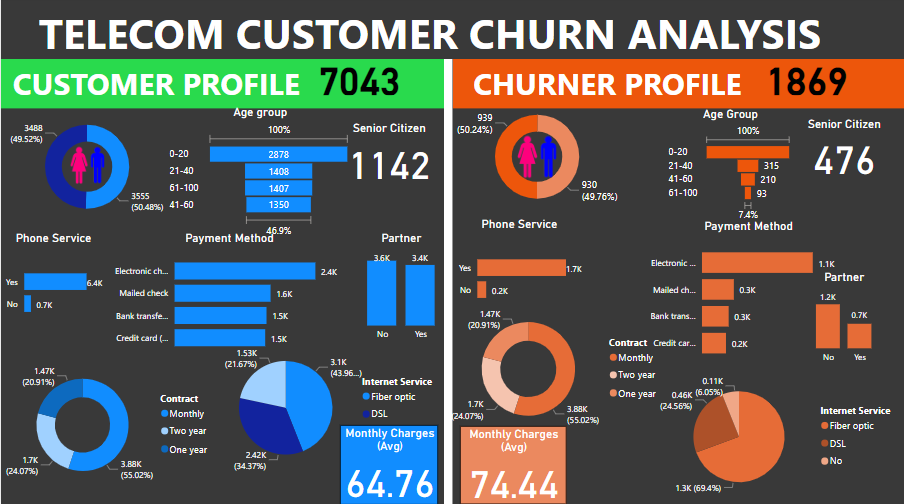

This screenshot's page, from the dashboard's own definition file:
{"tool":"powerbi","page":{"name":"Summary","canvas":[1280,720],"ordinal":0},"visuals":[{"type":"donutChart","fields":{"Category":["01 Churn-Dataset.gender"],"Y":["CountNonNull(01 Churn-Dataset.gender)"]},"box":[0,154.2,243.7,172.4],"z":0},{"type":"textbox","box":[0,5,1238.5,94.5],"z":1000},{"type":"textbox","box":[0,87.9,630.1,69.6],"z":2000},{"type":"textbox","box":[640,87.9,640,69.6],"z":3000},{"type":"card","fields":{"Values":["CountNonNull(01 Churn-Dataset.Churn)"]},"box":[428,82.2,160.2,62.4],"z":4000},{"type":"card","fields":{"Values":["CountNonNull(01 Churn-Dataset.Churn)"]},"box":[1061.6,82.2,160.2,62.4],"z":5000},{"type":"donutChart","fields":{"Category":["01 Churn-Dataset.gender"],"Y":["CountNonNull(01 Churn-Dataset.gender)"]},"box":[638.3,140.9,243.7,172.4],"z":6000},{"type":"funnel","title":"Age group","fields":{"Category":["01 Churn-Dataset.tenure_bin"],"Y":["CountNonNull(01 Churn-Dataset.tenure_bin)"]},"box":[233.8,152.5,266.9,192.3],"z":7000},{"type":"funnel","title":"Age Group","fields":{"Category":["01 Churn-Dataset.tenure_bin"],"Y":["CountNonNull(01 Churn-Dataset.tenure_bin)"]},"box":[890.4,126,258.7,202.3],"z":8000},{"type":"card","title":"Senior Citizen","fields":{"Values":["Sum(01 Churn-Dataset.SeniorCitizen)"]},"box":[464.2,175.8,170.8,92.8],"z":9000},{"type":"card","title":"Senior Citizen","fields":{"Values":["Sum(01 Churn-Dataset.SeniorCitizen)"]},"box":[1109.2,170.8,170.8,89.5],"z":10000},{"type":"columnChart","title":"Partner","fields":{"Category":["01 Churn-Dataset.Partner"],"Y":["CountNonNull(01 Churn-Dataset.Partner)"]},"box":[464.2,331.6,205.6,164.1],"z":11000},{"type":"columnChart","title":"Partner","fields":{"Category":["01 Churn-Dataset.Partner"],"Y":["CountNonNull(01 Churn-Dataset.Partner)"]},"box":[1109.2,386.3,170.8,140.9],"z":12000},{"type":"barChart","title":"Phone Service","fields":{"Category":["01 Churn-Dataset.PhoneService"],"Y":["CountNonNull(01 Churn-Dataset.PhoneService)"]},"box":[0,331.6,149.2,149.2],"z":13000},{"type":"donutChart","fields":{"Category":["01 Churn-Dataset.Contract"],"Y":["CountNonNull(01 Churn-Dataset.Contract)"]},"box":[0,505.7,306.7,200.6],"z":14000},{"type":"donutChart","fields":{"Category":["01 Churn-Dataset.Contract"],"Y":["CountNonNull(01 Churn-Dataset.Contract)"]},"box":[628.4,426.1,315,200.6],"z":15000},{"type":"barChart","title":"Payment Method","fields":{"Category":["01 Churn-Dataset.PaymentMethod"],"Y":["CountNonNull(01 Churn-Dataset.PaymentMethod)"]},"box":[142.6,331.6,361.5,182.4],"z":16000},{"type":"barChart","title":"Phone Service","fields":{"Category":["01 Churn-Dataset.PhoneService"],"Y":["CountNonNull(01 Churn-Dataset.PhoneService)"]},"box":[641.7,311.7,185.7,149.2],"z":17000},{"type":"barChart","title":"Payment Method","fields":{"Category":["01 Churn-Dataset.PaymentMethod"],"Y":["CountNonNull(01 Churn-Dataset.PaymentMethod)"]},"box":[902,315,316.7,212.2],"z":18000},{"type":"pieChart","fields":{"Category":["01 Churn-Dataset.InternetService"],"Y":["CountNonNull(01 Churn-Dataset.InternetService)"]},"box":[290.2,477.5,333.3,208.9],"z":18001},{"type":"pieChart","fields":{"Category":["01 Churn-Dataset.InternetService"],"Y":["CountNonNull(01 Churn-Dataset.InternetService)"]},"box":[925.2,527.3,354.8,192.3],"z":18002},{"type":"textbox","box":[628.4,87.9,11.6,631.7],"z":18003},{"type":"card","title":"Monthly Charges (Avg)","fields":{"Values":["Avg(01 Churn-Dataset.MonthlyCharges)"]},"box":[480.8,606.8,139.3,112.7],"z":18004},{"type":"card","title":"Monthly Charges (Avg)","fields":{"Values":["Avg(01 Churn-Dataset.MonthlyCharges)"]},"box":[649.9,608.5,150.9,111.1],"z":18005},{"type":"image","box":[82.9,195.6,79.6,84.6],"z":18006},{"type":"image","box":[714.6,179.1,89.5,96.2],"z":18007}]}

Visuals, with their boxes in screenshot pixels (x1, y1, x2, y2), scaled from the page's 1280x720 canvas onto the 904x504 screenshot:
donutChart - 01 Churn-Dataset.gender x CountNonNull(01 Churn-Dataset.gender): {"left": 0, "top": 108, "right": 172, "bottom": 229}
textbox: {"left": 0, "top": 4, "right": 875, "bottom": 70}
textbox: {"left": 0, "top": 62, "right": 445, "bottom": 110}
textbox: {"left": 452, "top": 62, "right": 903, "bottom": 110}
card - CountNonNull(01 Churn-Dataset.Churn): {"left": 302, "top": 58, "right": 415, "bottom": 101}
card - CountNonNull(01 Churn-Dataset.Churn): {"left": 750, "top": 58, "right": 863, "bottom": 101}
donutChart - 01 Churn-Dataset.gender x CountNonNull(01 Churn-Dataset.gender): {"left": 451, "top": 99, "right": 623, "bottom": 219}
"Age group" funnel: {"left": 165, "top": 107, "right": 354, "bottom": 241}
"Age Group" funnel: {"left": 629, "top": 88, "right": 812, "bottom": 230}
"Senior Citizen" card: {"left": 328, "top": 123, "right": 448, "bottom": 188}
"Senior Citizen" card: {"left": 783, "top": 120, "right": 903, "bottom": 182}
"Partner" columnChart: {"left": 328, "top": 232, "right": 473, "bottom": 347}
"Partner" columnChart: {"left": 783, "top": 270, "right": 903, "bottom": 369}
"Phone Service" barChart: {"left": 0, "top": 232, "right": 105, "bottom": 337}
donutChart - 01 Churn-Dataset.Contract x CountNonNull(01 Churn-Dataset.Contract): {"left": 0, "top": 354, "right": 217, "bottom": 494}
donutChart - 01 Churn-Dataset.Contract x CountNonNull(01 Churn-Dataset.Contract): {"left": 444, "top": 298, "right": 666, "bottom": 439}
"Payment Method" barChart: {"left": 101, "top": 232, "right": 356, "bottom": 360}
"Phone Service" barChart: {"left": 453, "top": 218, "right": 584, "bottom": 323}
"Payment Method" barChart: {"left": 637, "top": 220, "right": 861, "bottom": 369}
pieChart - 01 Churn-Dataset.InternetService x CountNonNull(01 Churn-Dataset.InternetService): {"left": 205, "top": 334, "right": 440, "bottom": 480}
pieChart - 01 Churn-Dataset.InternetService x CountNonNull(01 Churn-Dataset.InternetService): {"left": 653, "top": 369, "right": 903, "bottom": 503}
textbox: {"left": 444, "top": 62, "right": 452, "bottom": 503}
"Monthly Charges (Avg)" card: {"left": 340, "top": 425, "right": 438, "bottom": 503}
"Monthly Charges (Avg)" card: {"left": 459, "top": 426, "right": 566, "bottom": 503}
image: {"left": 59, "top": 137, "right": 115, "bottom": 196}
image: {"left": 505, "top": 125, "right": 568, "bottom": 193}
